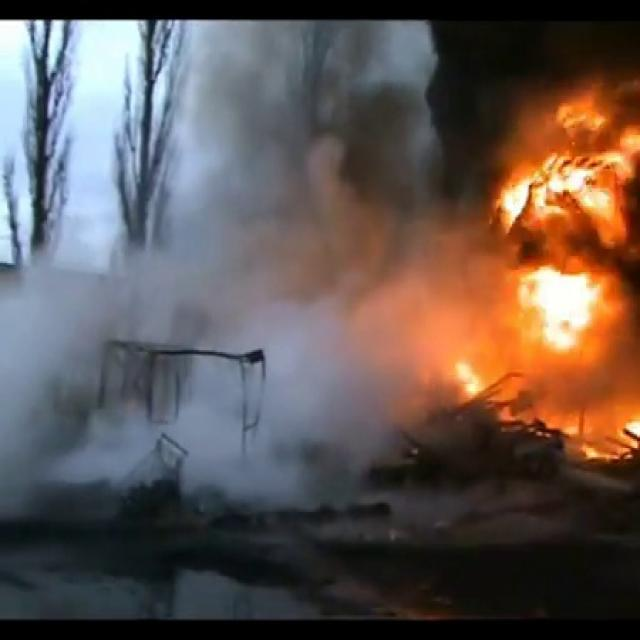Fire: (446, 86, 640, 431)
Smoke: (1, 22, 486, 527)
